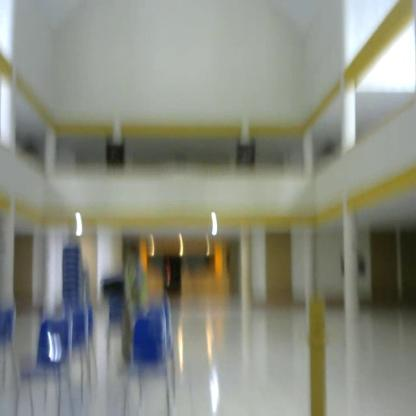pole: (298, 293, 337, 416)
